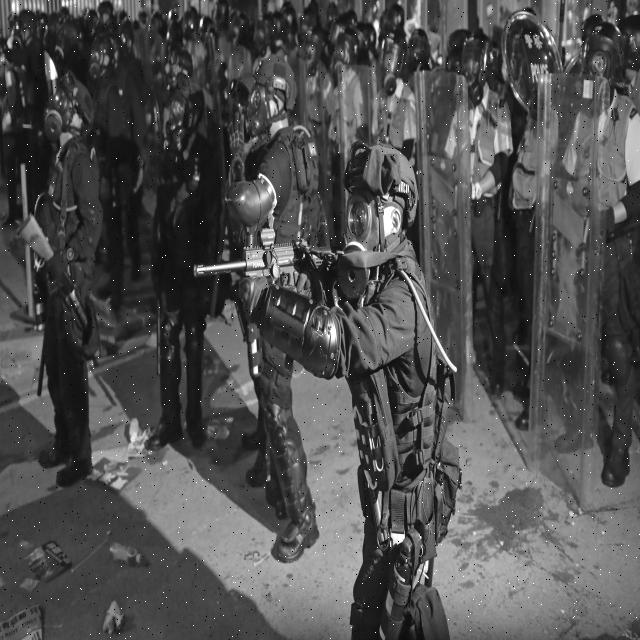police: (196, 128, 453, 640), (210, 33, 324, 608), (530, 3, 640, 491), (409, 0, 508, 439), (16, 44, 106, 506), (132, 57, 222, 475)
